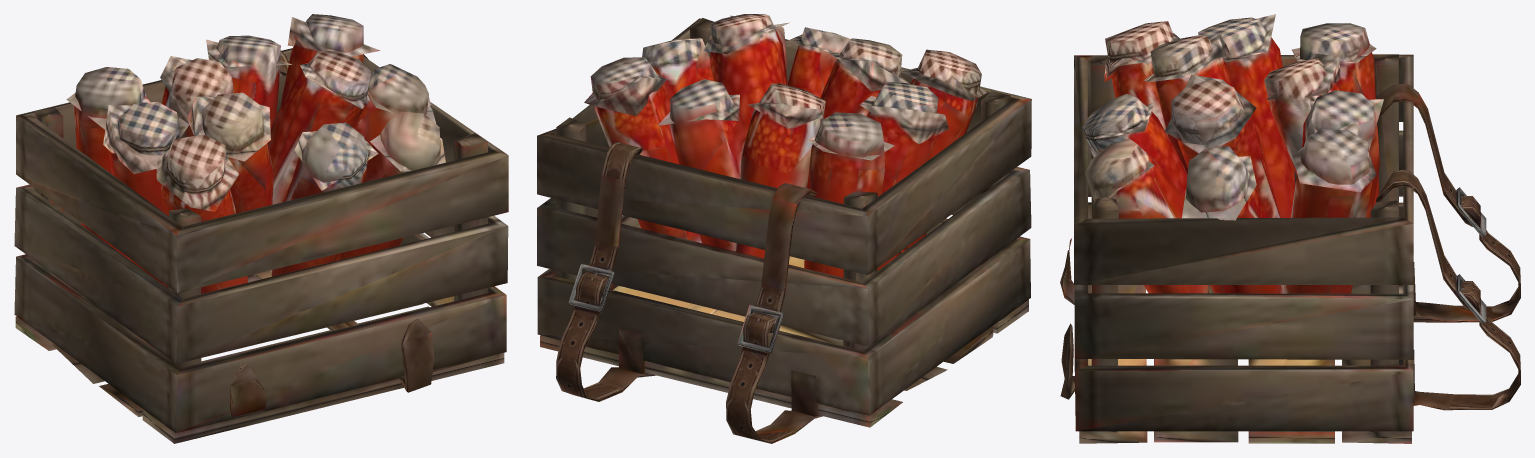
Rendered from pack_emberPreserves.glb.
3 renders of one model, left to right at view 1: azimuth 30°, elevation 25°; view 2: azimuth 150°, elevation 25°; view 3: azimuth 270°, elevation 25°, orthographic. The views are drawn at different scales.
Bounding box in the file's own units: 0.8247 × 0.7007 × 0.9473.
1 material, 1 textured.
